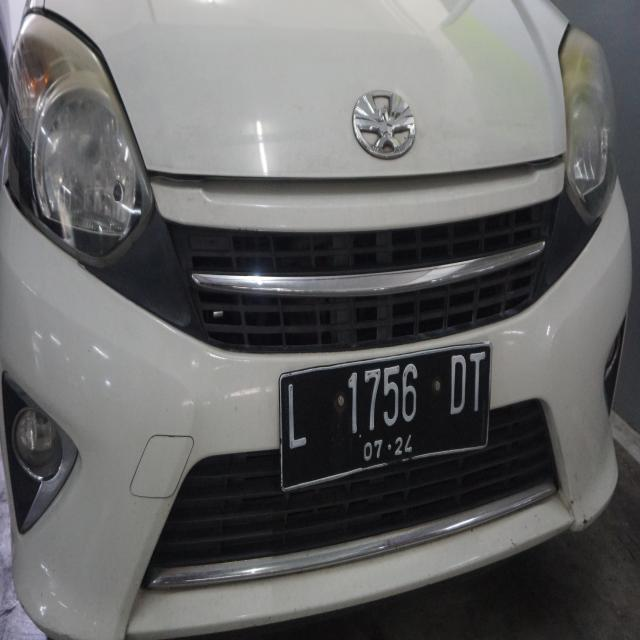1: (340, 368, 366, 443)
5: (380, 358, 402, 431)
6: (397, 358, 423, 433)
7: (361, 369, 384, 434)
D: (444, 348, 468, 434)
L: (280, 377, 310, 464)
T: (465, 348, 490, 423)
